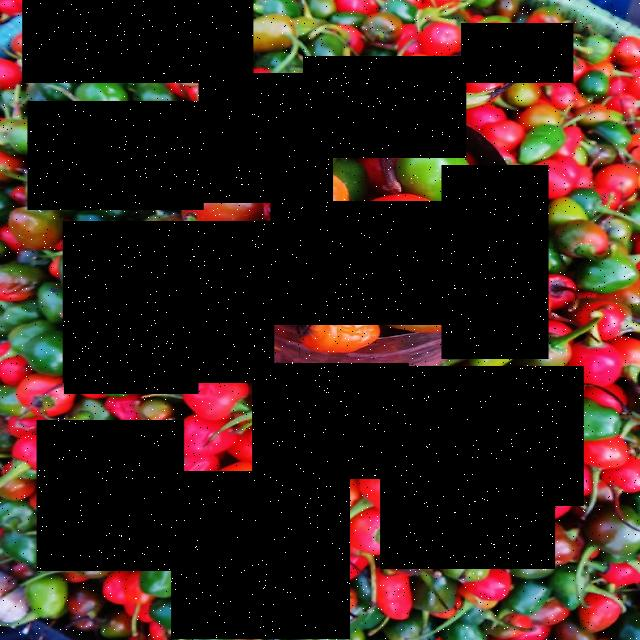Akabare_Khursani: (64, 221, 275, 383), (172, 472, 351, 640), (407, 366, 584, 506), (271, 202, 457, 326), (38, 420, 185, 571), (442, 165, 550, 359), (28, 101, 205, 210), (22, 0, 254, 83), (253, 364, 410, 480), (381, 465, 556, 569), (199, 74, 334, 204), (304, 56, 467, 158), (66, 306, 200, 394), (462, 24, 574, 84)
